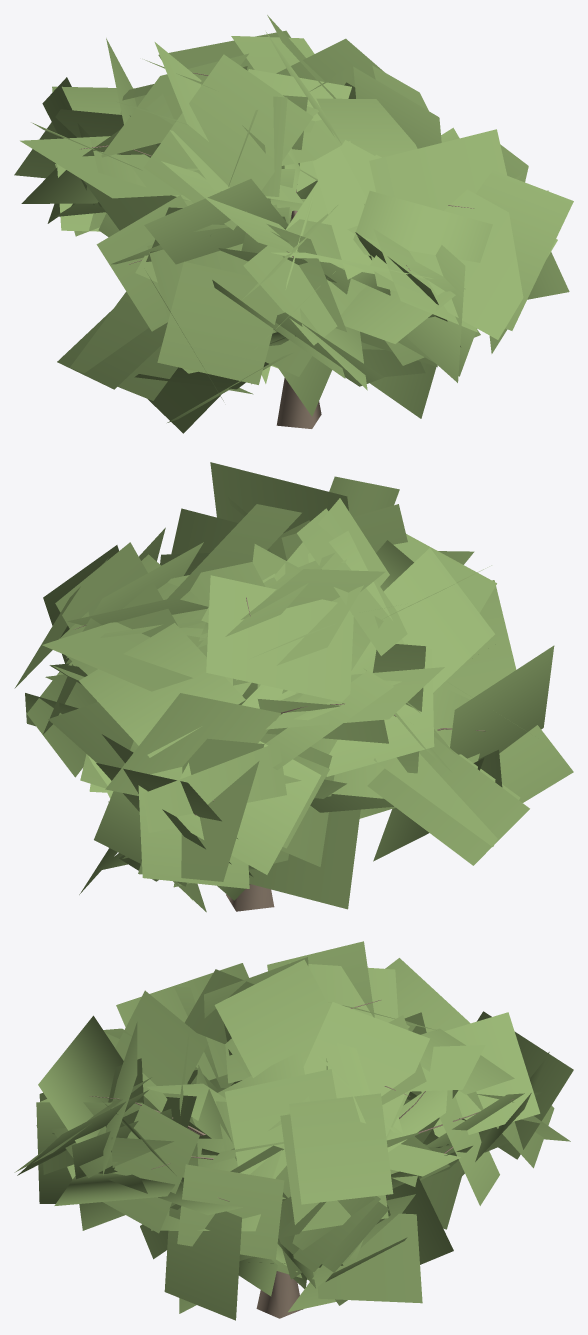
Rendered from Oak_1_lod2.glb.
3 renders of one model, top to bottom at view 1: azimuth 30°, elevation 25°; view 2: azimuth 150°, elevation 25°; view 3: azimuth 270°, elevation 25°, orthographic. The views are drawn at different scales.
Parts seen in each view (by area): view 1: Oak_1_lod2; view 2: Oak_1_lod2; view 3: Oak_1_lod2.
Boxes of the visible parts, x1=… form: Oak_1_lod2: x1=14, y1=15, x2=573, y2=433; Oak_1_lod2: x1=14, y1=462, x2=573, y2=912; Oak_1_lod2: x1=14, y1=941, x2=573, y2=1320.
Size of the model in its own units: 19.24 by 16.2 by 24.09.
